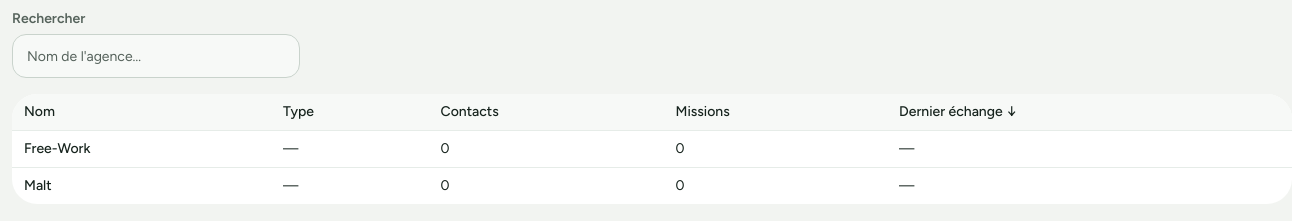
Test: IntermediariesTable › searches by name
The width and height of the screenshot is (1292, 221).
Type "malt" into the search field labelled "Rechercher".
click(156, 56); type("malt")  # box [12,34,300,78]
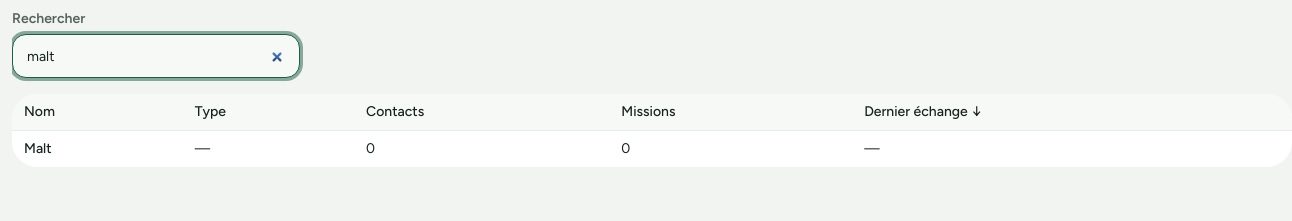
Expected: the link "Malt" is shown, [24,140,52,157]
Now the link "Free-Work" is gone
